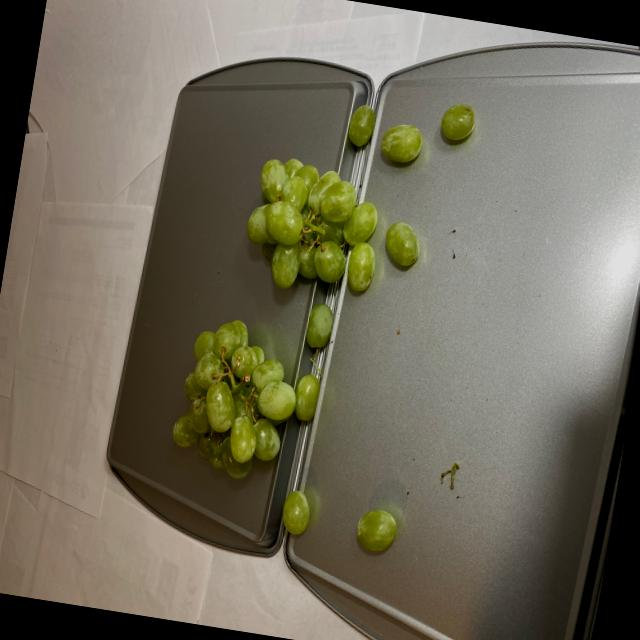grapes: (160, 74, 476, 551)
